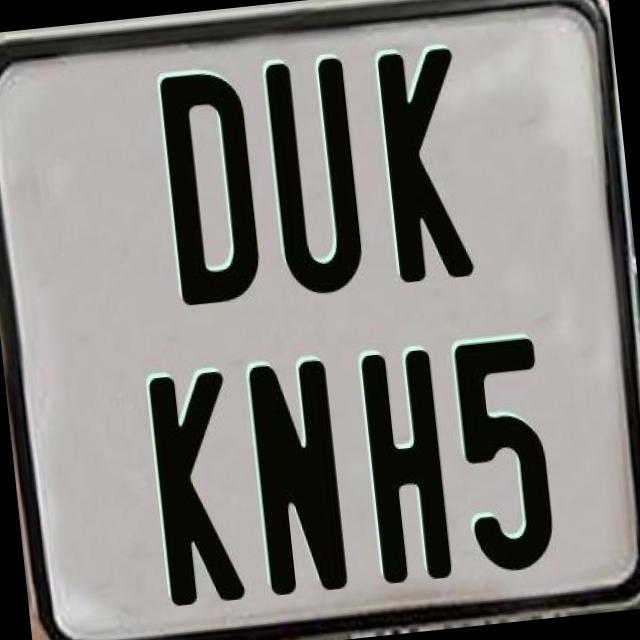5: (452, 330, 562, 576)
D: (159, 64, 271, 307)
H: (358, 346, 461, 587)
K: (147, 368, 250, 612), (372, 44, 474, 282)
N: (244, 358, 350, 604)
U: (262, 53, 372, 298)
